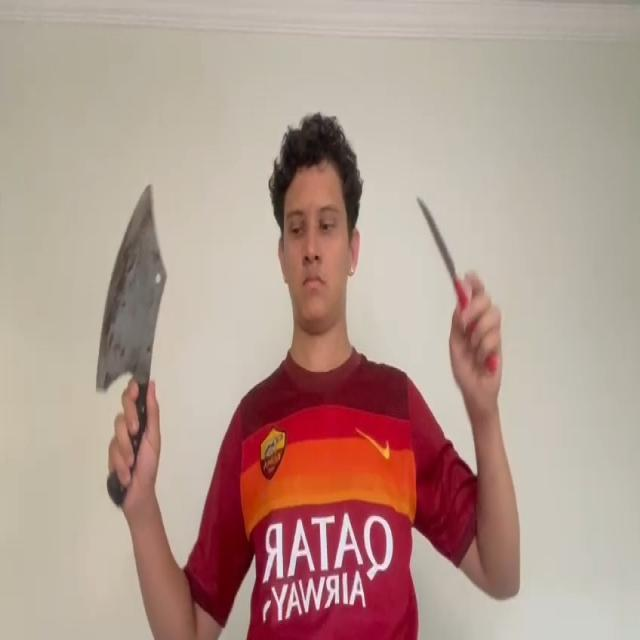knife: (96, 186, 170, 392), (418, 198, 453, 272)
